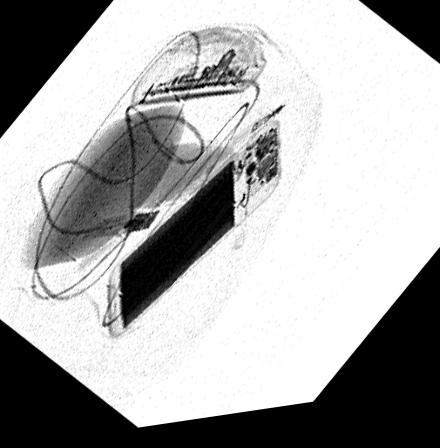Powerbank: (104, 126, 281, 342)
